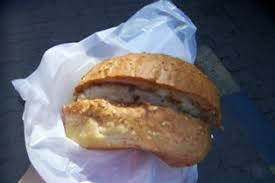hamburger: (62, 51, 227, 171)
